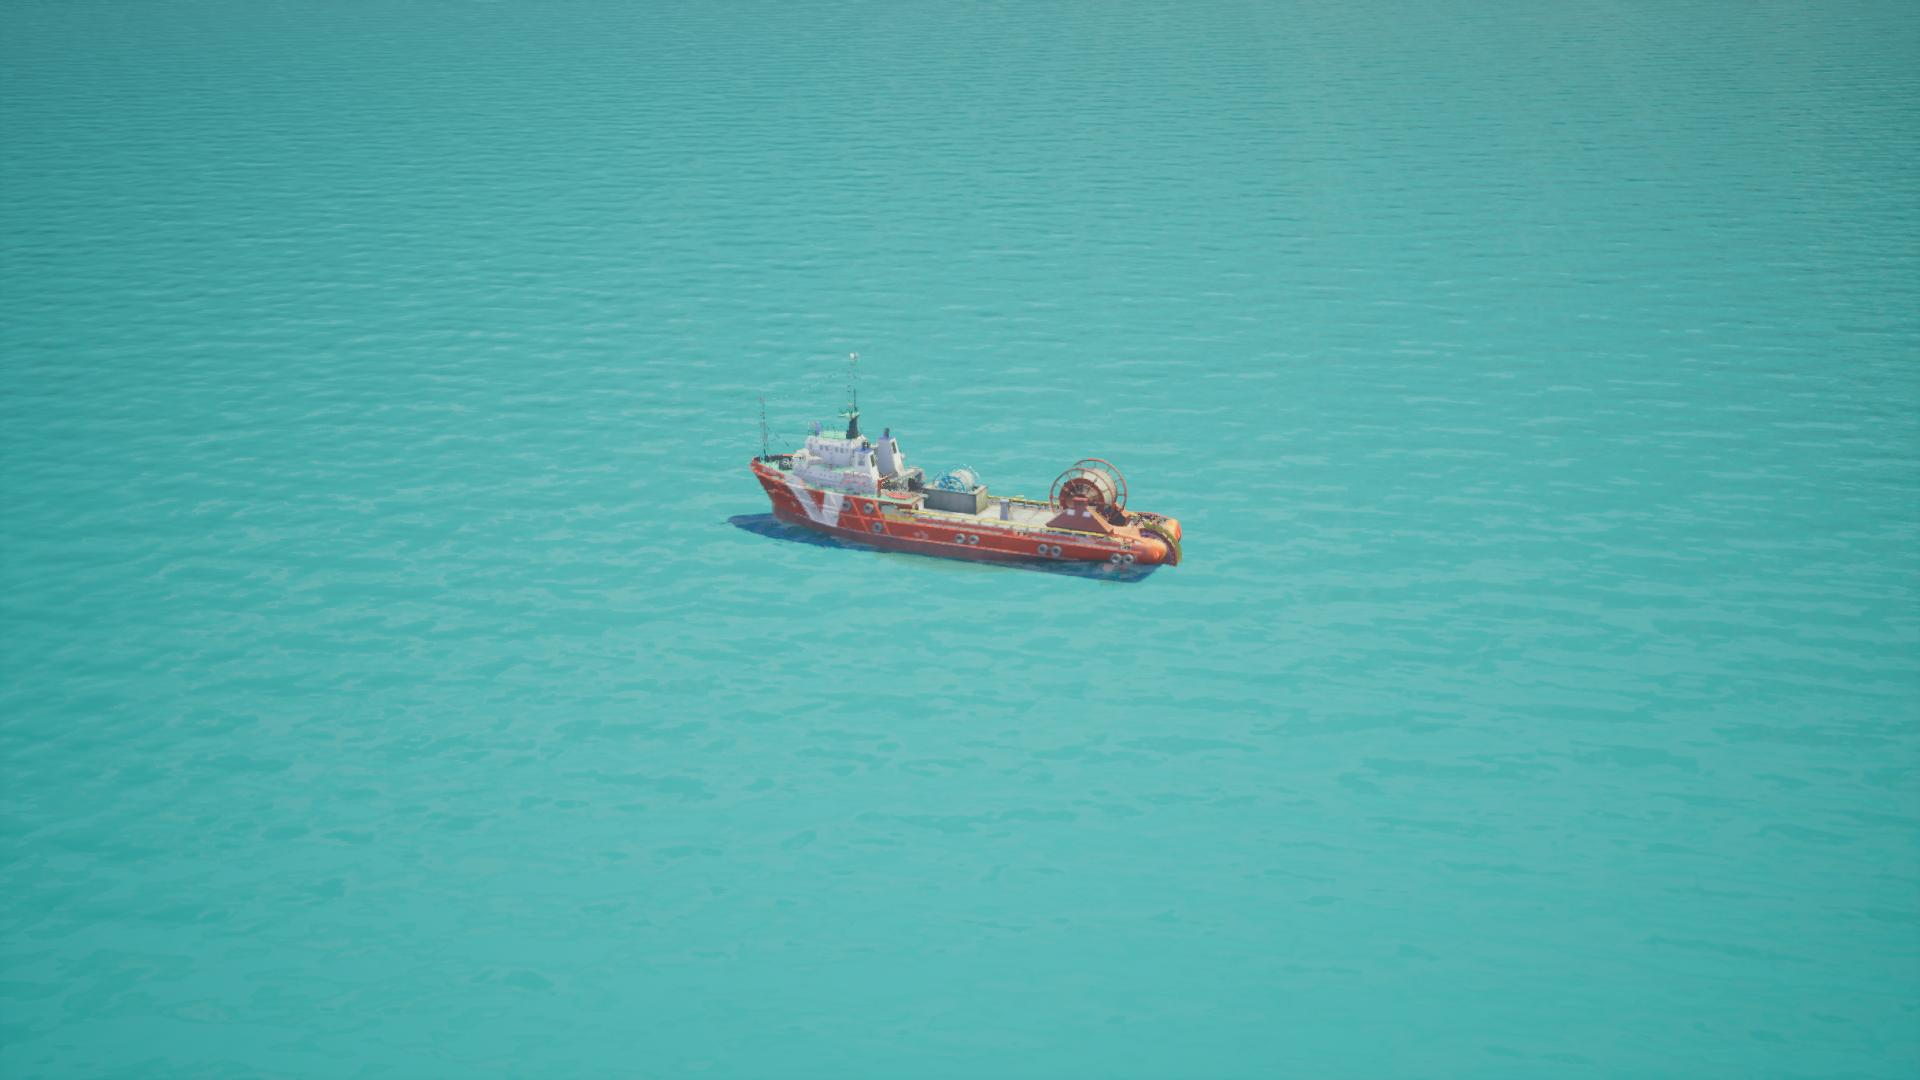Tug Boat: (737, 347, 1178, 584)
